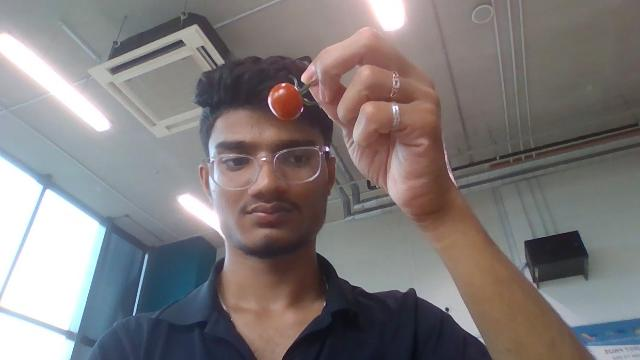Fully Grown: (267, 81, 304, 121)
